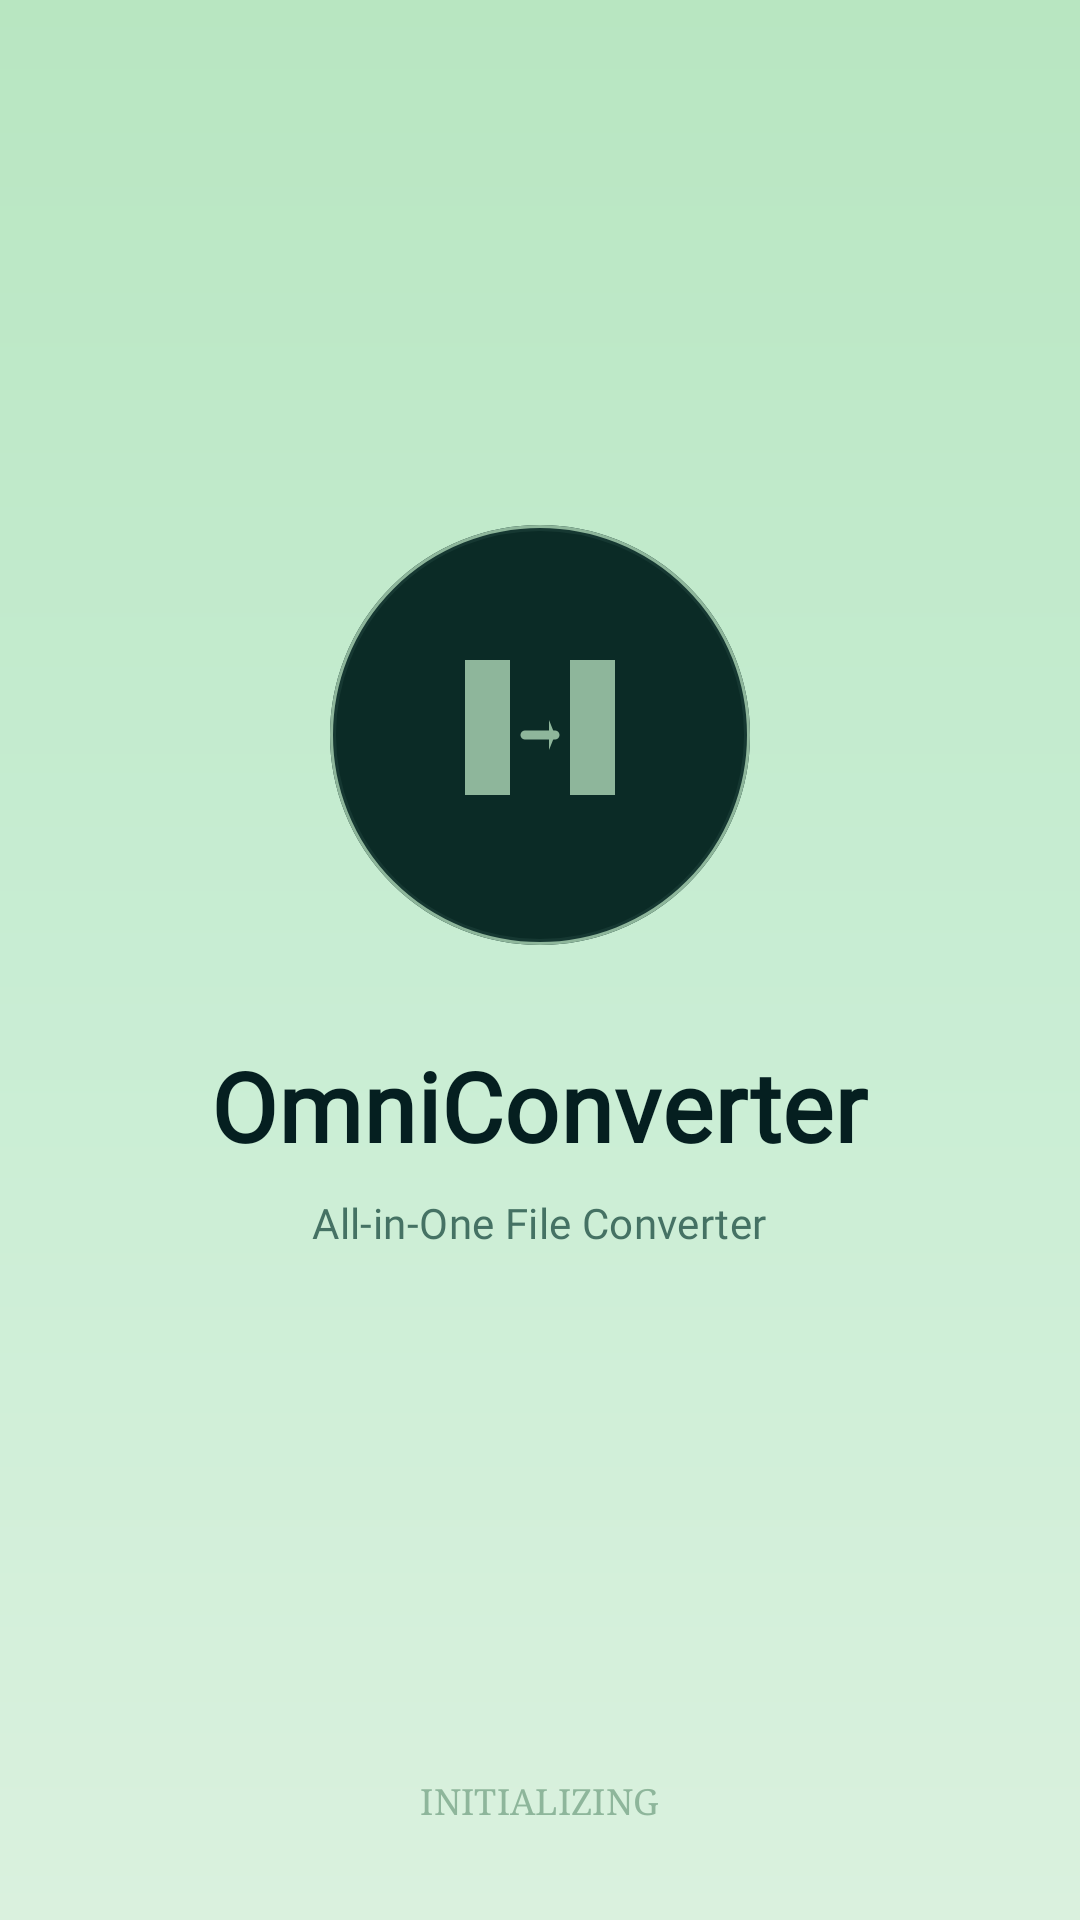

Screen size 1080×1920. Icon name, then its box in pixels as {"x1": x1, "y1": y1, "x2": x2, "y2": y2}:
Conversion Icon: {"x1": 465, "y1": 660, "x2": 615, "y2": 795}
